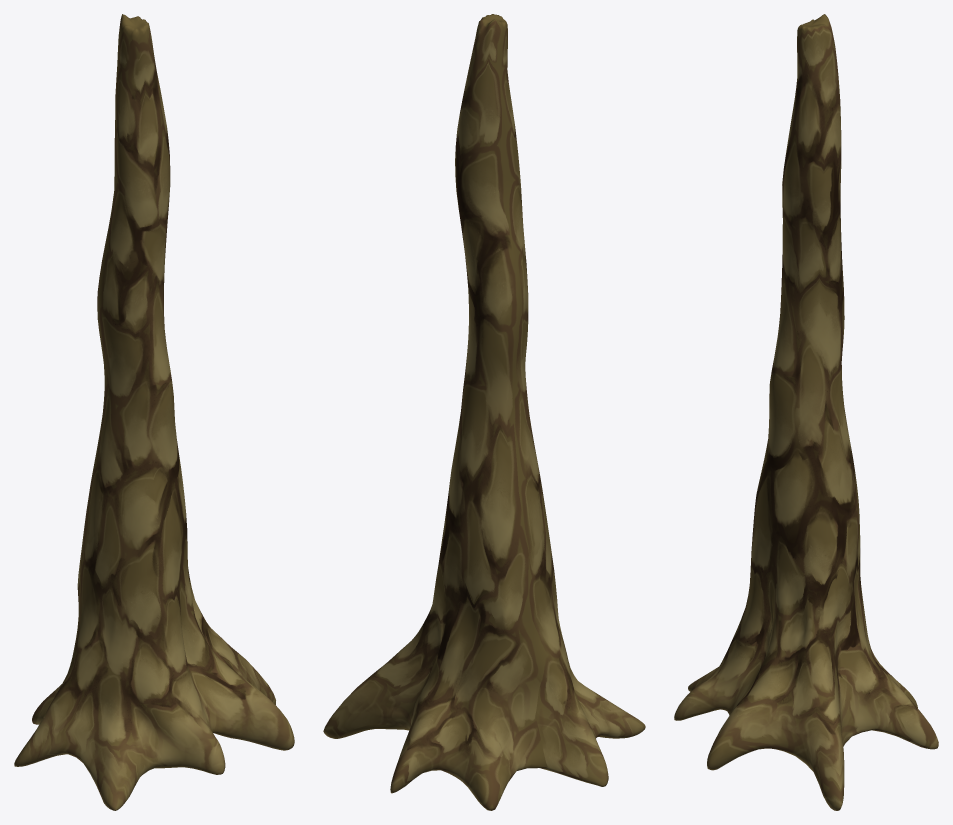
File: treeBaseStraight 1.fbx
The picture shows the model from 3 angles, left to right: view 1: azimuth 30°, elevation 25°; view 2: azimuth 150°, elevation 25°; view 3: azimuth 270°, elevation 25°; orthographic projection. The views are drawn at different scales.
Visible parts, largest first — view 1: pCylinder1; view 2: pCylinder1; view 3: pCylinder1.
Boxes of the visible parts, x1=… form: pCylinder1: x1=14, y1=14, x2=294, y2=810; pCylinder1: x1=323, y1=14, x2=645, y2=810; pCylinder1: x1=674, y1=14, x2=938, y2=810.
Bounding box in the file's own units: 539 × 1414 × 469.
1 material, 1 textured.
